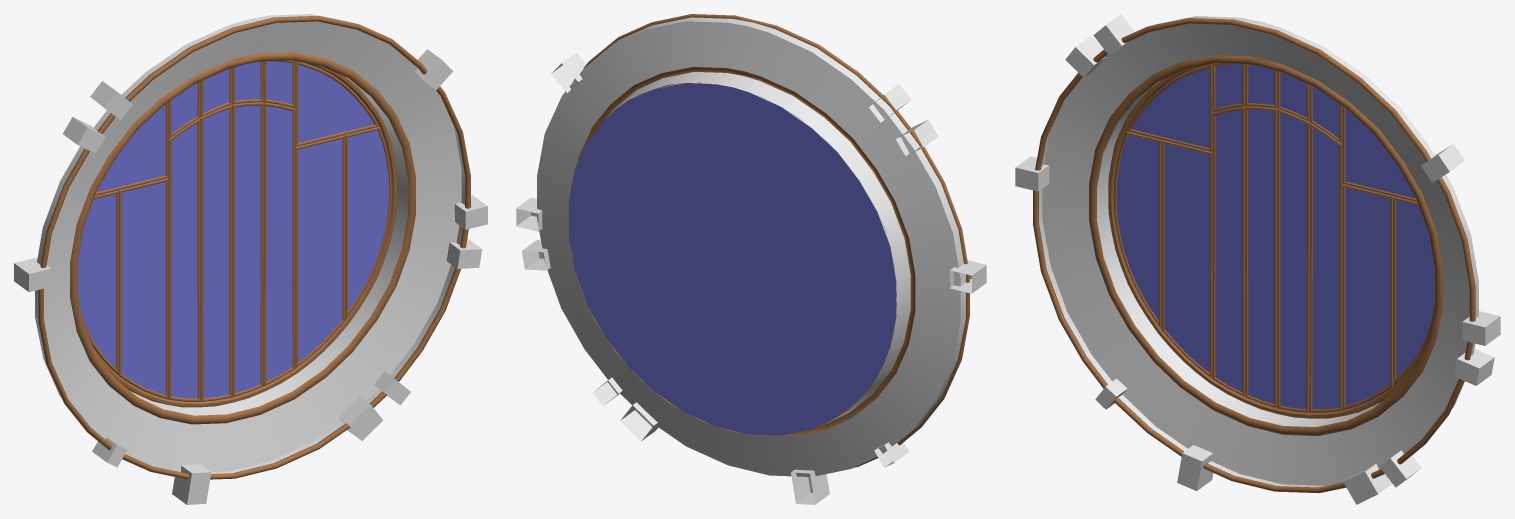
File: SP_House06_Window04.fbx
3 renders of one model, left to right at view 1: azimuth 30°, elevation 25°; view 2: azimuth 150°, elevation 25°; view 3: azimuth 330°, elevation 25°, orthographic. The views are drawn at different scales.
Parts seen in each view (by area): view 1: SP_House06_Window04; view 2: SP_House06_Window04; view 3: SP_House06_Window04.
Part boxes in pixels (x1=…): SP_House06_Window04: x1=14, y1=14, x2=487, y2=504; SP_House06_Window04: x1=516, y1=14, x2=986, y2=504; SP_House06_Window04: x1=1015, y1=14, x2=1500, y2=504.
Bounding box in the file's own units: 4.38 × 4.25 × 0.4386.
